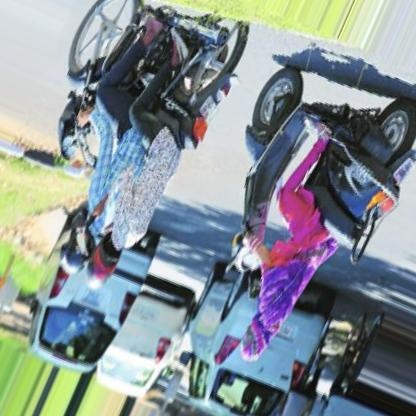with helmet: (86, 232, 129, 283), (60, 224, 92, 276)
